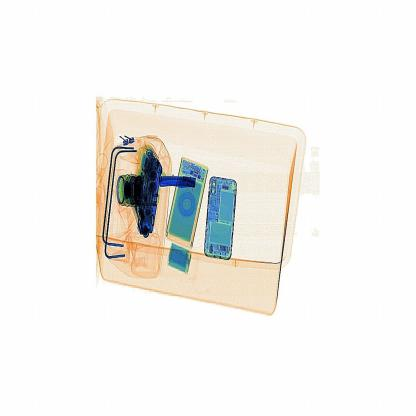knife: (152, 171, 200, 193)
